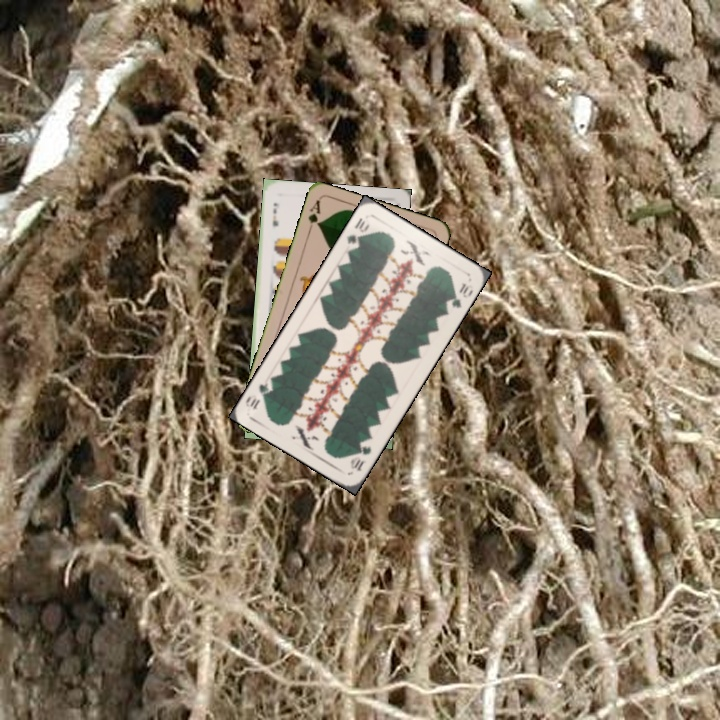E7: (268, 199, 282, 229)
G10: (346, 435, 374, 474), (343, 213, 372, 247)
GA: (304, 196, 323, 237)
